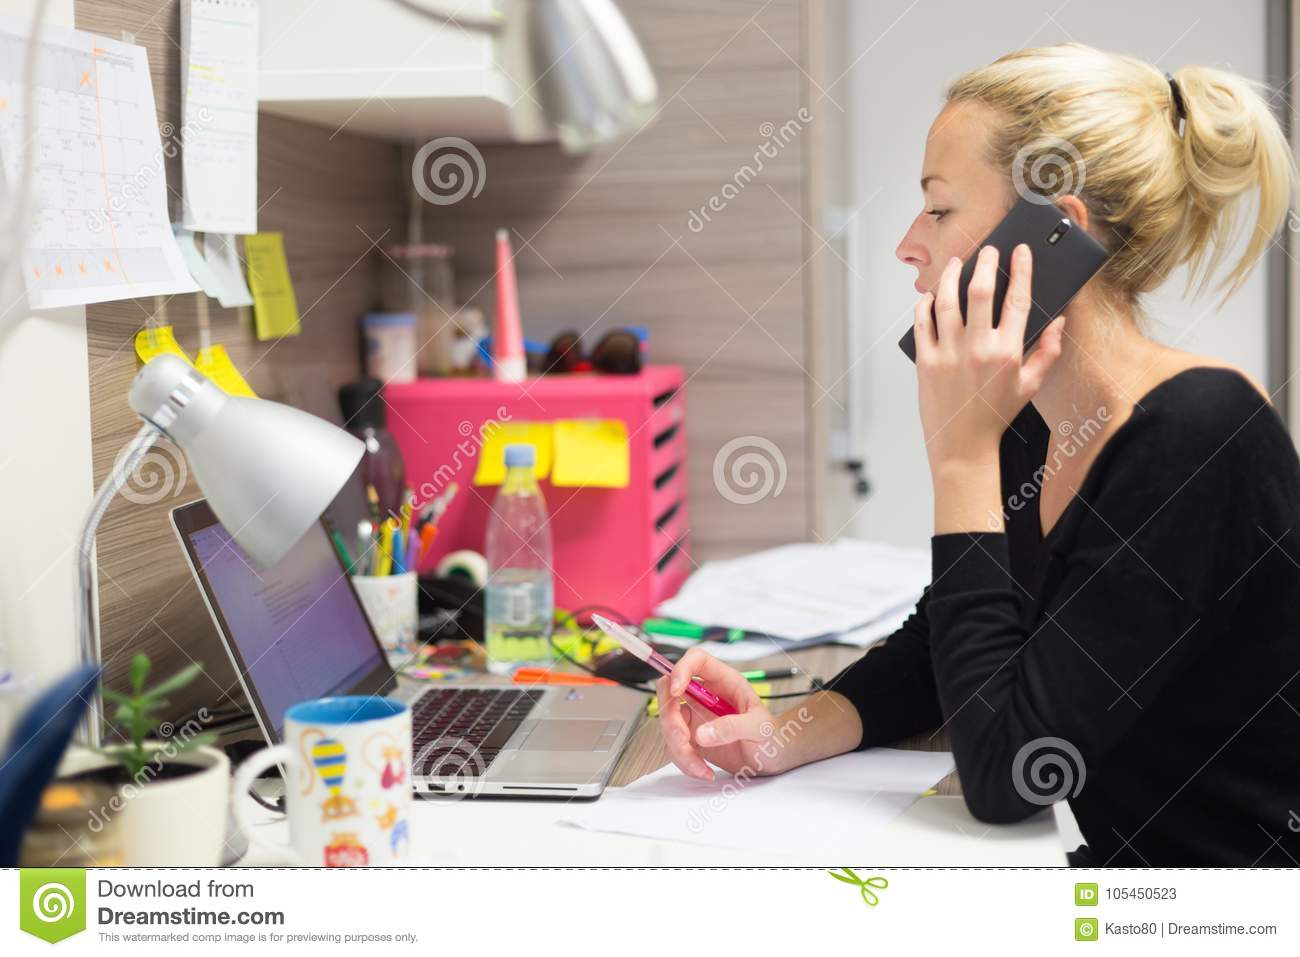phone: (904, 188, 1103, 407)
talk: (884, 164, 1101, 476)
